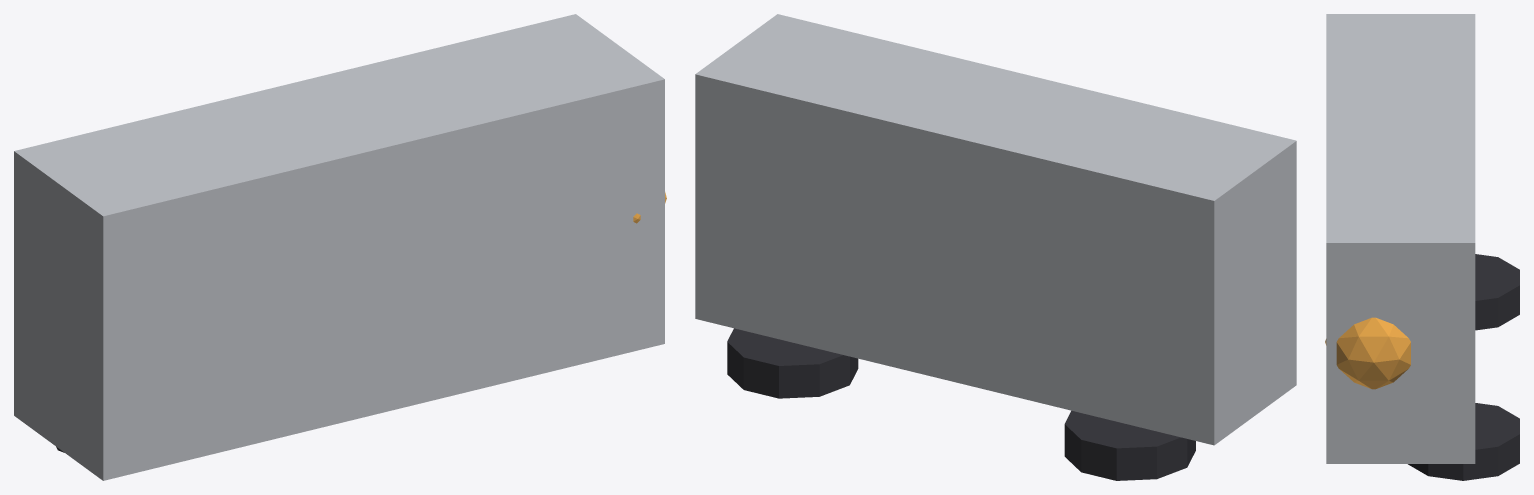
Rendered from airship_boarding_ramp.glb.
3 views of the same model, side by side, from view 1: azimuth 30°, elevation 25°; view 2: azimuth 150°, elevation 25°; view 3: azimuth 270°, elevation 25° (orthographic). The views are drawn at different scales.
Parts seen in each view (by area): view 1: vehicle_body; view 2: vehicle_body, wheel_a, wheel_b; view 3: vehicle_body, engine_glow, wheel_b, wheel_a.
Boxes of the visible parts, x1,y1,x2,y2 form: vehicle_body: (14, 14, 664, 480); vehicle_body: (695, 14, 1296, 445); wheel_a: (1064, 410, 1195, 480); wheel_b: (727, 328, 858, 398); vehicle_body: (1326, 14, 1475, 463); engine_glow: (1325, 317, 1410, 389); wheel_b: (1408, 403, 1519, 480); wheel_a: (1475, 254, 1519, 330).
Bounding box in the file's own units: 2.08 × 1.03 × 0.7192.
